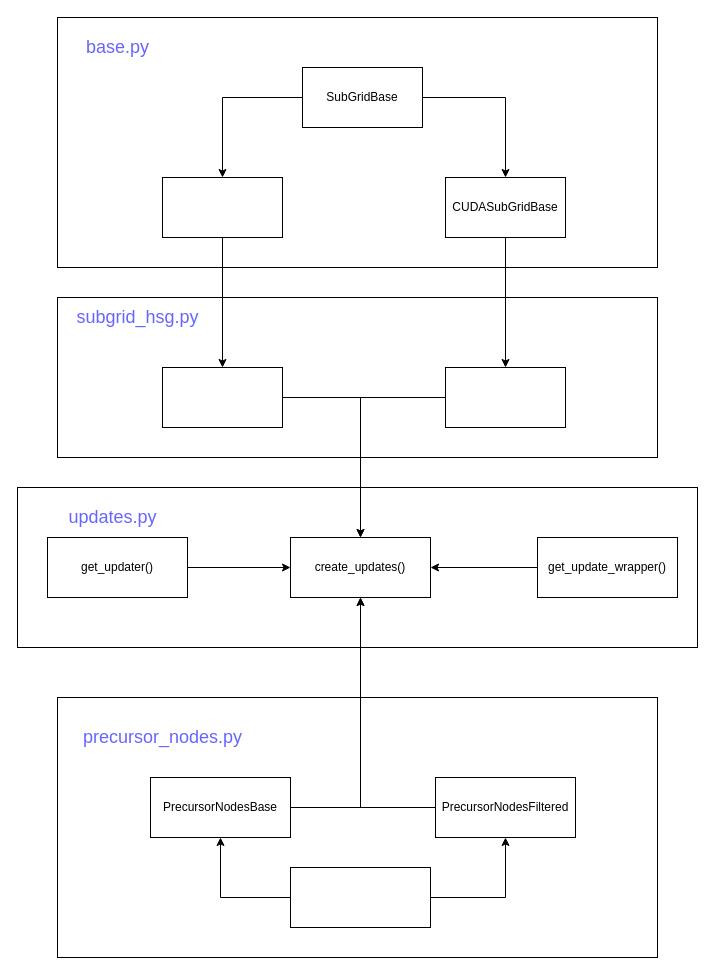
This 715x975 diagram has some shape labels left out. The shapes that lost their labels are listed below. From the top down, each one's box as (x1, y1, x2, y2) in pixels, then its label:
(162, 176, 282, 238): CPUSubGridBase
(162, 366, 282, 428): SubGridHSG
(444, 366, 566, 428): CUDASubGridHSG
(290, 866, 430, 928): PrecursorNodes
